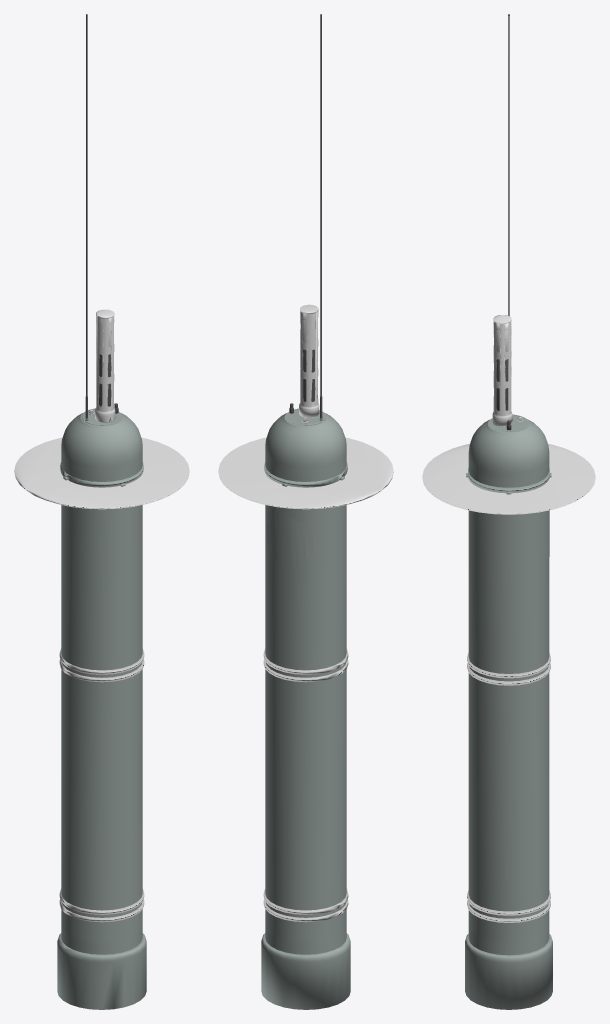
File: argo.glb
The picture shows the model from 3 angles, left to right: view 1: azimuth 30°, elevation 25°; view 2: azimuth 150°, elevation 25°; view 3: azimuth 270°, elevation 25°; orthographic projection.
Parts seen in each view (by area): view 1: Fake; view 2: Fake; view 3: Fake.
Part boxes in pixels (x1,y1,x2,y2): Fake: (14,14,189,1009); Fake: (218,14,393,1009); Fake: (422,14,595,1009).
Bounding box in the file's own units: 4.3 × 26.56 × 4.3.
1 material, 1 textured.
